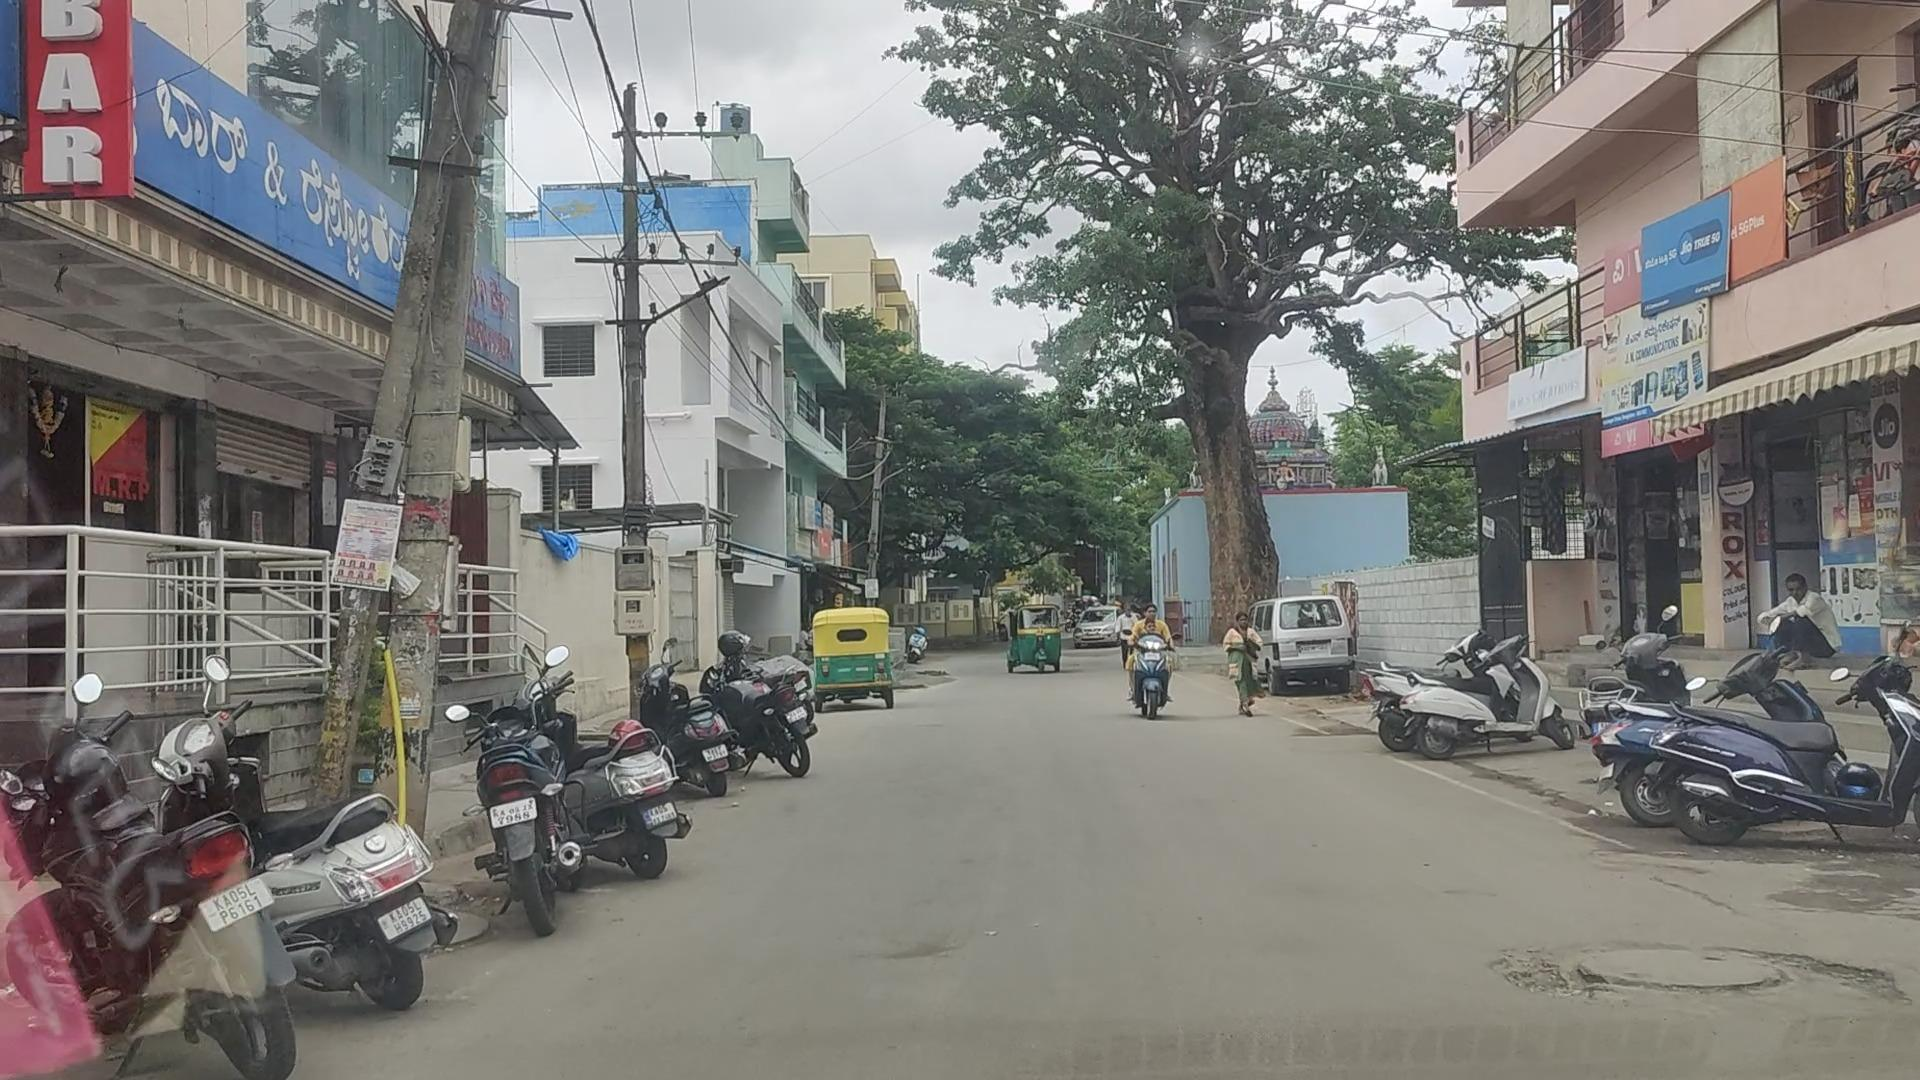RoadDamages: (1497, 931, 1866, 1019)
